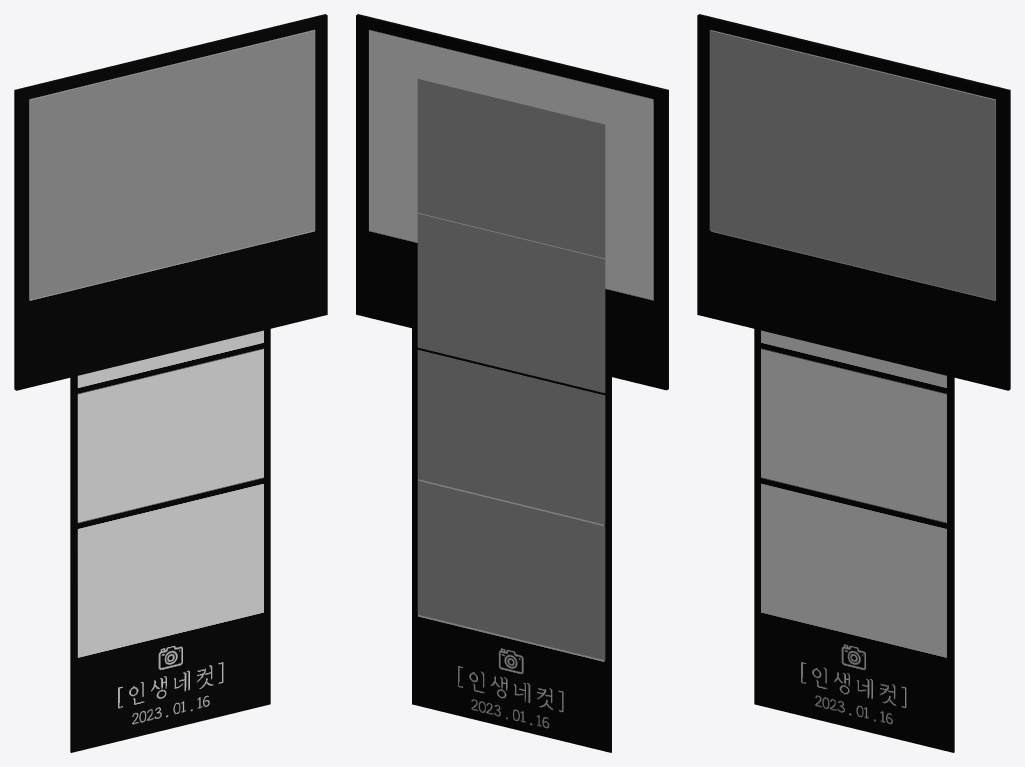
File: photo.fbx
3 views of the same model, side by side, from view 1: azimuth 30°, elevation 25°; view 2: azimuth 150°, elevation 25°; view 3: azimuth 330°, elevation 25° (orthographic).
Visible parts, largest first — view 1: Base (×2), photo; view 2: photo, photo_04, phtoto_02, photo_01, photo_03, Base; view 3: Base (×2), photo.
Part boxes in pixels (x1,y1,x2,y2): Base (×2): (29, 30, 315, 752); photo: (14, 14, 327, 390); photo: (356, 14, 668, 390); photo_04: (417, 480, 605, 660); phtoto_02: (417, 213, 605, 392); photo_01: (417, 79, 605, 258); photo_03: (417, 350, 605, 524); Base: (412, 328, 611, 752); Base (×2): (709, 30, 995, 752); photo: (697, 14, 1010, 390).
Bounding box in the file's own units: 22.77 × 47.28 × 0.306.
